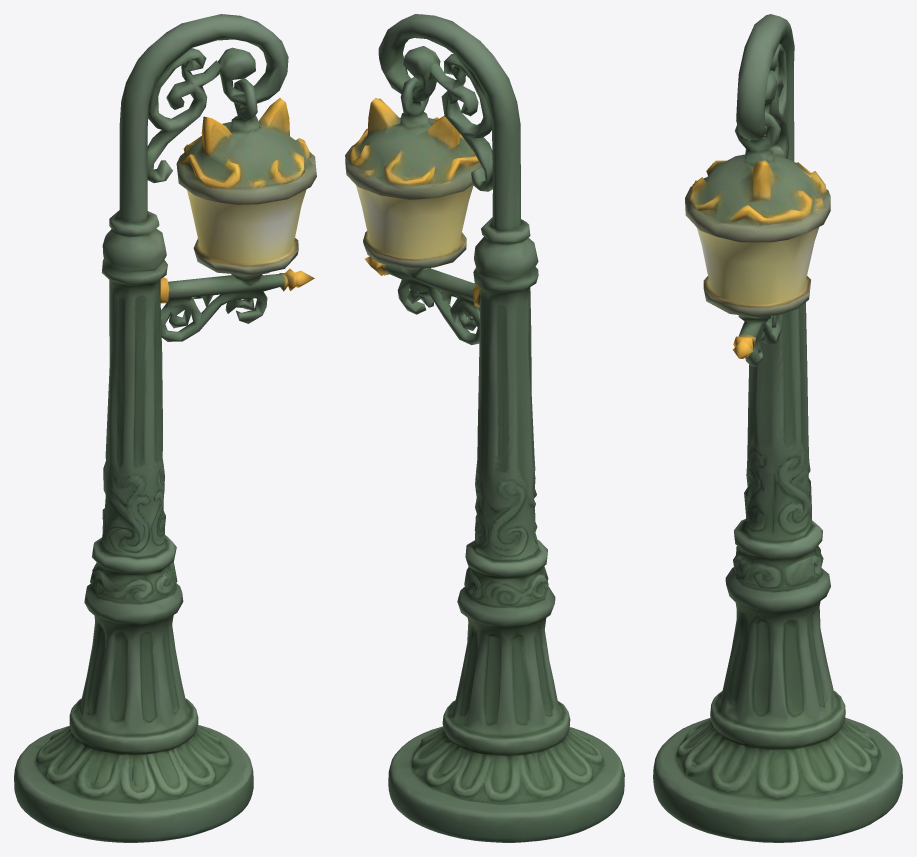
Rendered from prop_lamp.glb.
3 renders of one model, left to right at view 1: azimuth 30°, elevation 25°; view 2: azimuth 150°, elevation 25°; view 3: azimuth 270°, elevation 25°, orthographic. The views are drawn at different scales.
Visible parts, largest first — view 1: tripo_node_ea812fa4-5256-42d4-8a99-ab9ddc308a4a; view 2: tripo_node_ea812fa4-5256-42d4-8a99-ab9ddc308a4a; view 3: tripo_node_ea812fa4-5256-42d4-8a99-ab9ddc308a4a.
Part boxes in pixels (left/top/right/bottom): tripo_node_ea812fa4-5256-42d4-8a99-ab9ddc308a4a: left=14, top=14, right=316, bottom=842; tripo_node_ea812fa4-5256-42d4-8a99-ab9ddc308a4a: left=345, top=14, right=624, bottom=842; tripo_node_ea812fa4-5256-42d4-8a99-ab9ddc308a4a: left=653, top=14, right=902, bottom=842.
Bounding box in the file's own units: 0.3674 × 1 × 0.281.
1 material, 1 textured.
